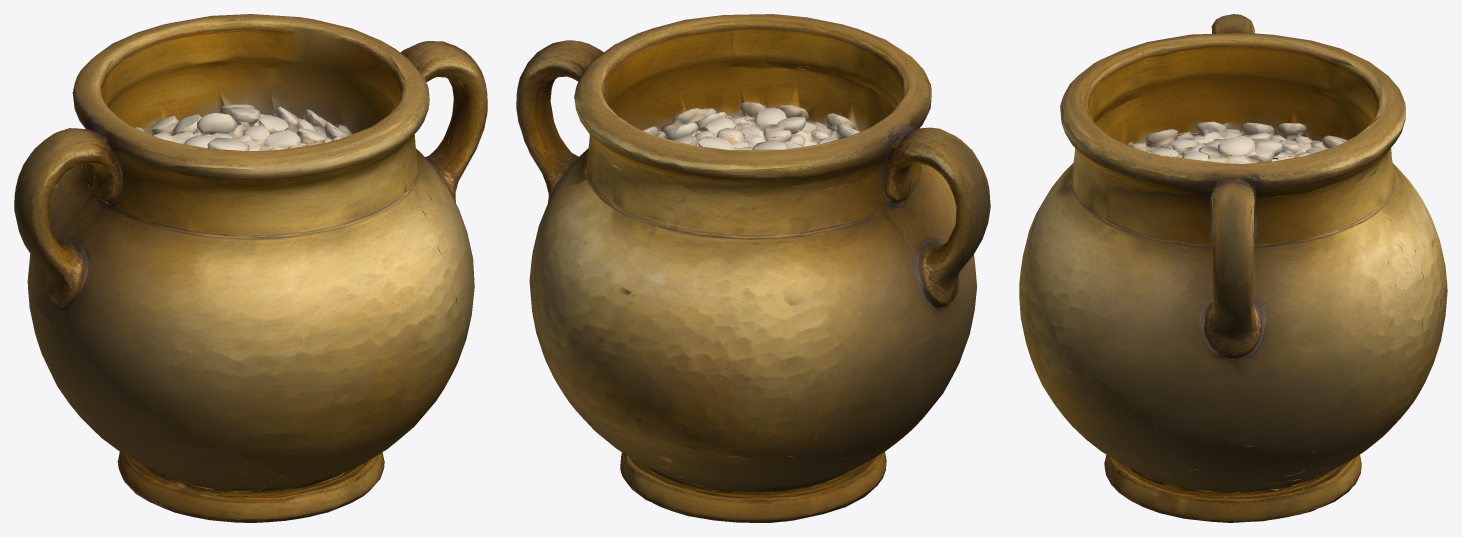
File: Manna_Jar_VR_1K.glb
The picture shows the model from 3 angles, left to right: view 1: azimuth 30°, elevation 25°; view 2: azimuth 150°, elevation 25°; view 3: azimuth 270°, elevation 25°; orthographic projection. The views are drawn at different scales.
Visible parts, largest first — view 1: Manna_Jar; view 2: Manna_Jar; view 3: Manna_Jar.
Part boxes in pixels (x1,y1,x2,y2): Manna_Jar: (14,14,487,522); Manna_Jar: (516,14,990,522); Manna_Jar: (1019,14,1447,522).
Bounding box in the file's own units: 1.03 × 0.8124 × 0.8505.
Materials: 1 (1 with a texture image).
